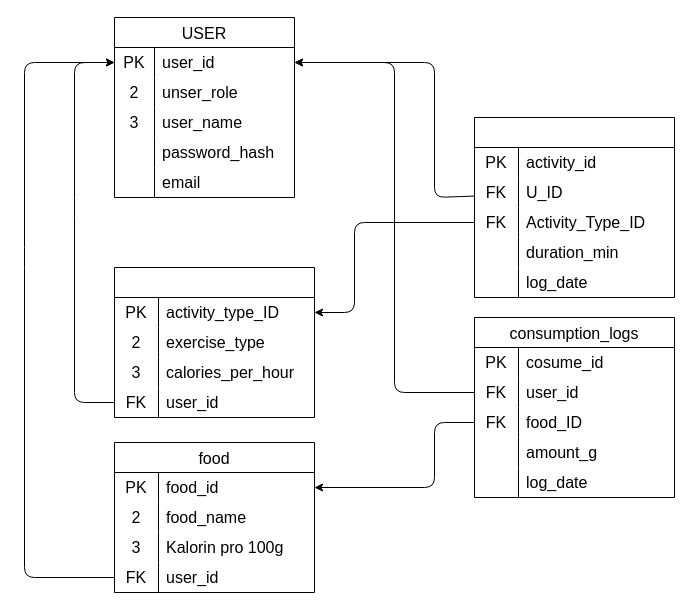
Image size: 692x610. Some labels were removed from this diagram. The shapes that lost their labels are listed below. From the top down, each one's box as (x1, y1, x2, y2) in pixels, then its label:
(474, 116, 674, 298): activity_logs
(114, 266, 314, 418): exercises
